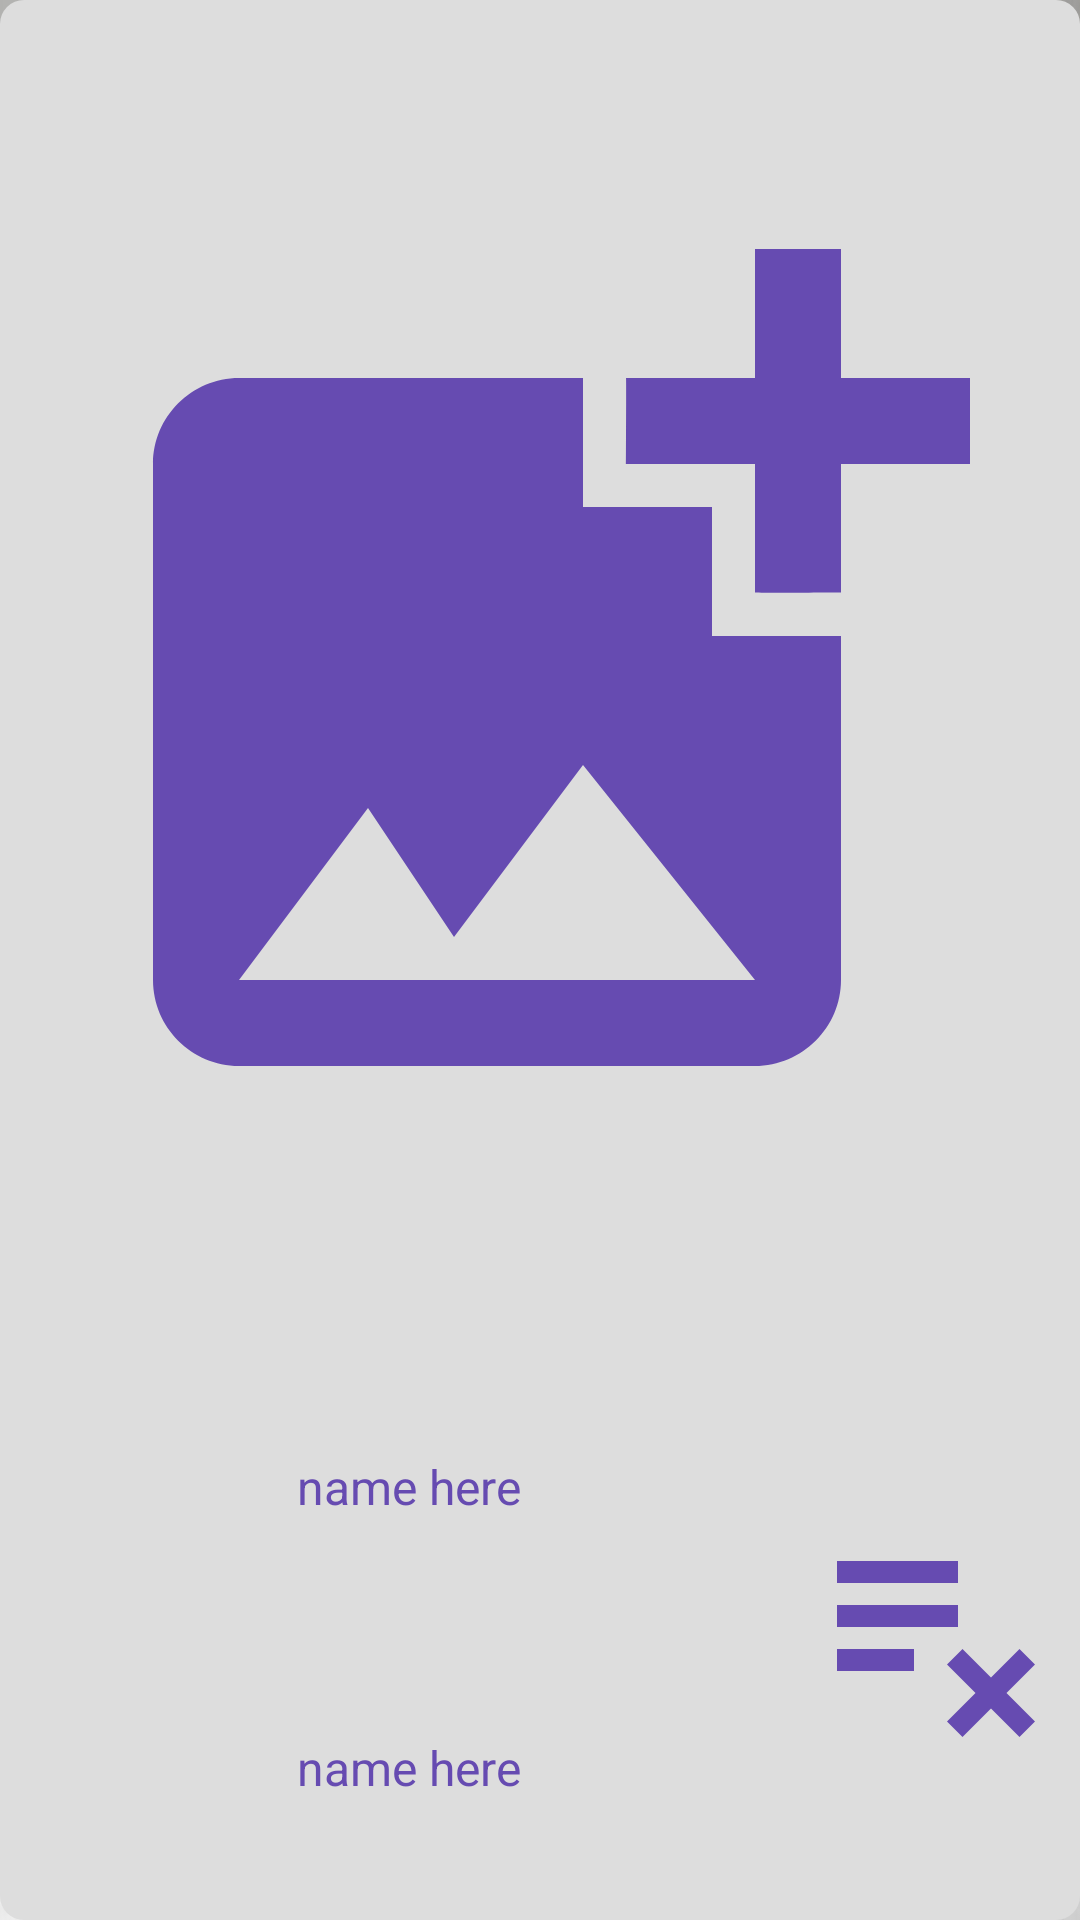

Where icons sit on this 1080 × 1920 app screen, as (x1, y1, x2, y2):
remove from list: (837, 1561, 1035, 1737)
